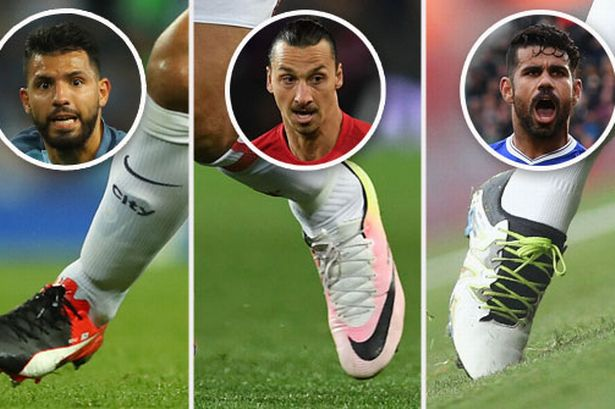football boots: (445, 167, 567, 380), (302, 158, 406, 382), (1, 276, 110, 389)
